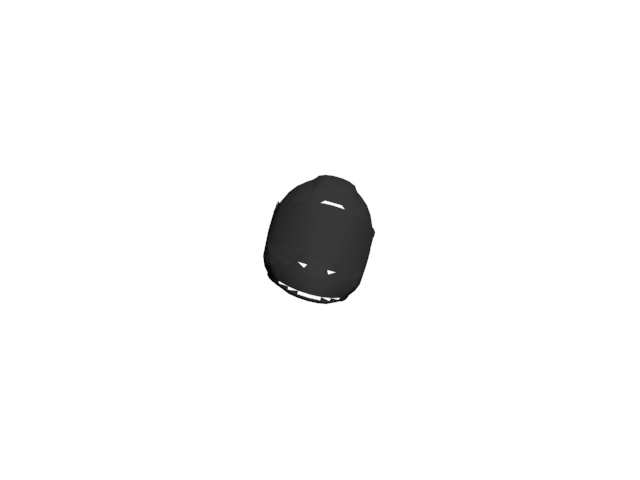bike_helmet: (257, 169, 376, 311)
